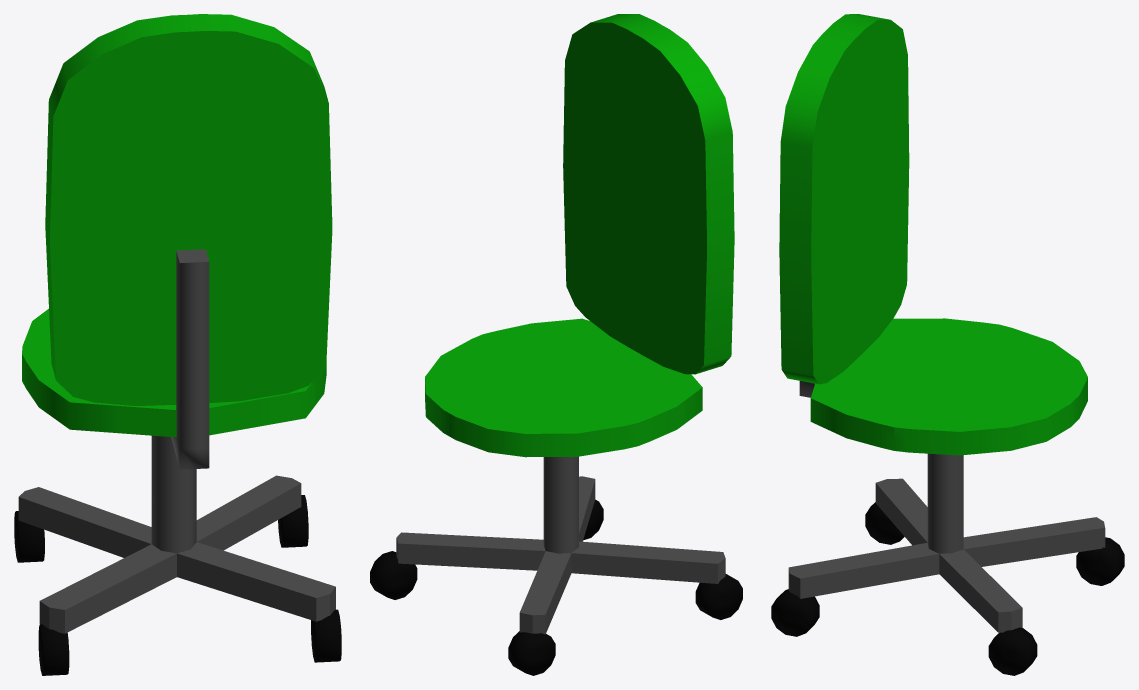
File: round_chair.fbx
3 renders of one model, left to right at view 1: azimuth 30°, elevation 25°; view 2: azimuth 150°, elevation 25°; view 3: azimuth 270°, elevation 25°, orthographic. The views are drawn at different scales.
Visible parts, largest first — view 1: polySurface3020; view 2: polySurface3020; view 3: polySurface3020.
Part boxes in pixels (x1,y1,x2,y2): polySurface3020: (14,14,341,675); polySurface3020: (370,14,742,675); polySurface3020: (771,14,1124,675).
Bounding box in the file's own units: 8.33 × 14.67 × 8.48.
